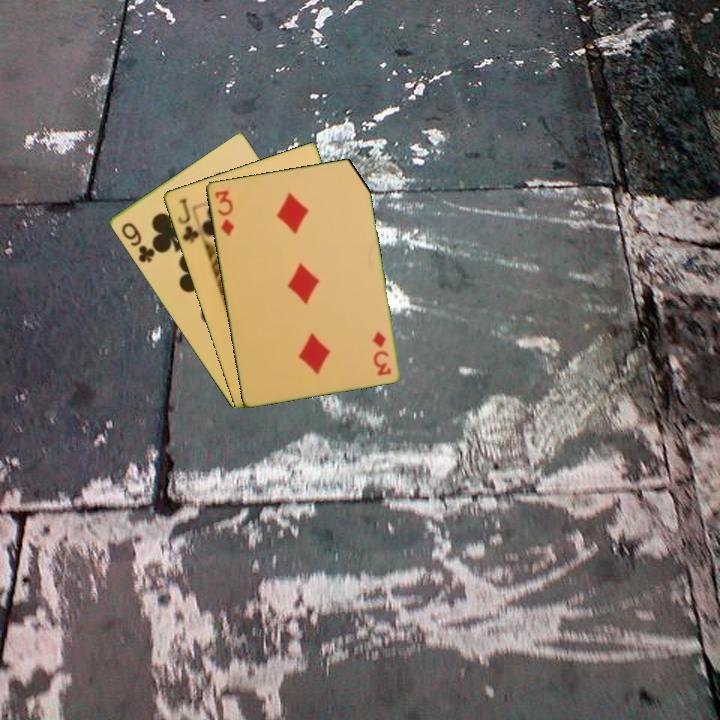3d: (211, 186, 237, 238), (368, 328, 394, 378)
9c: (117, 219, 157, 265)
Jc: (174, 195, 202, 246)
